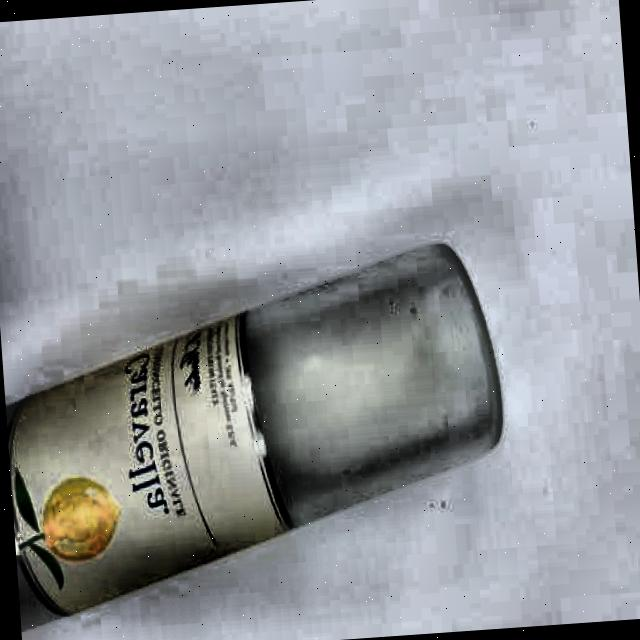glass: (0, 226, 523, 636)
